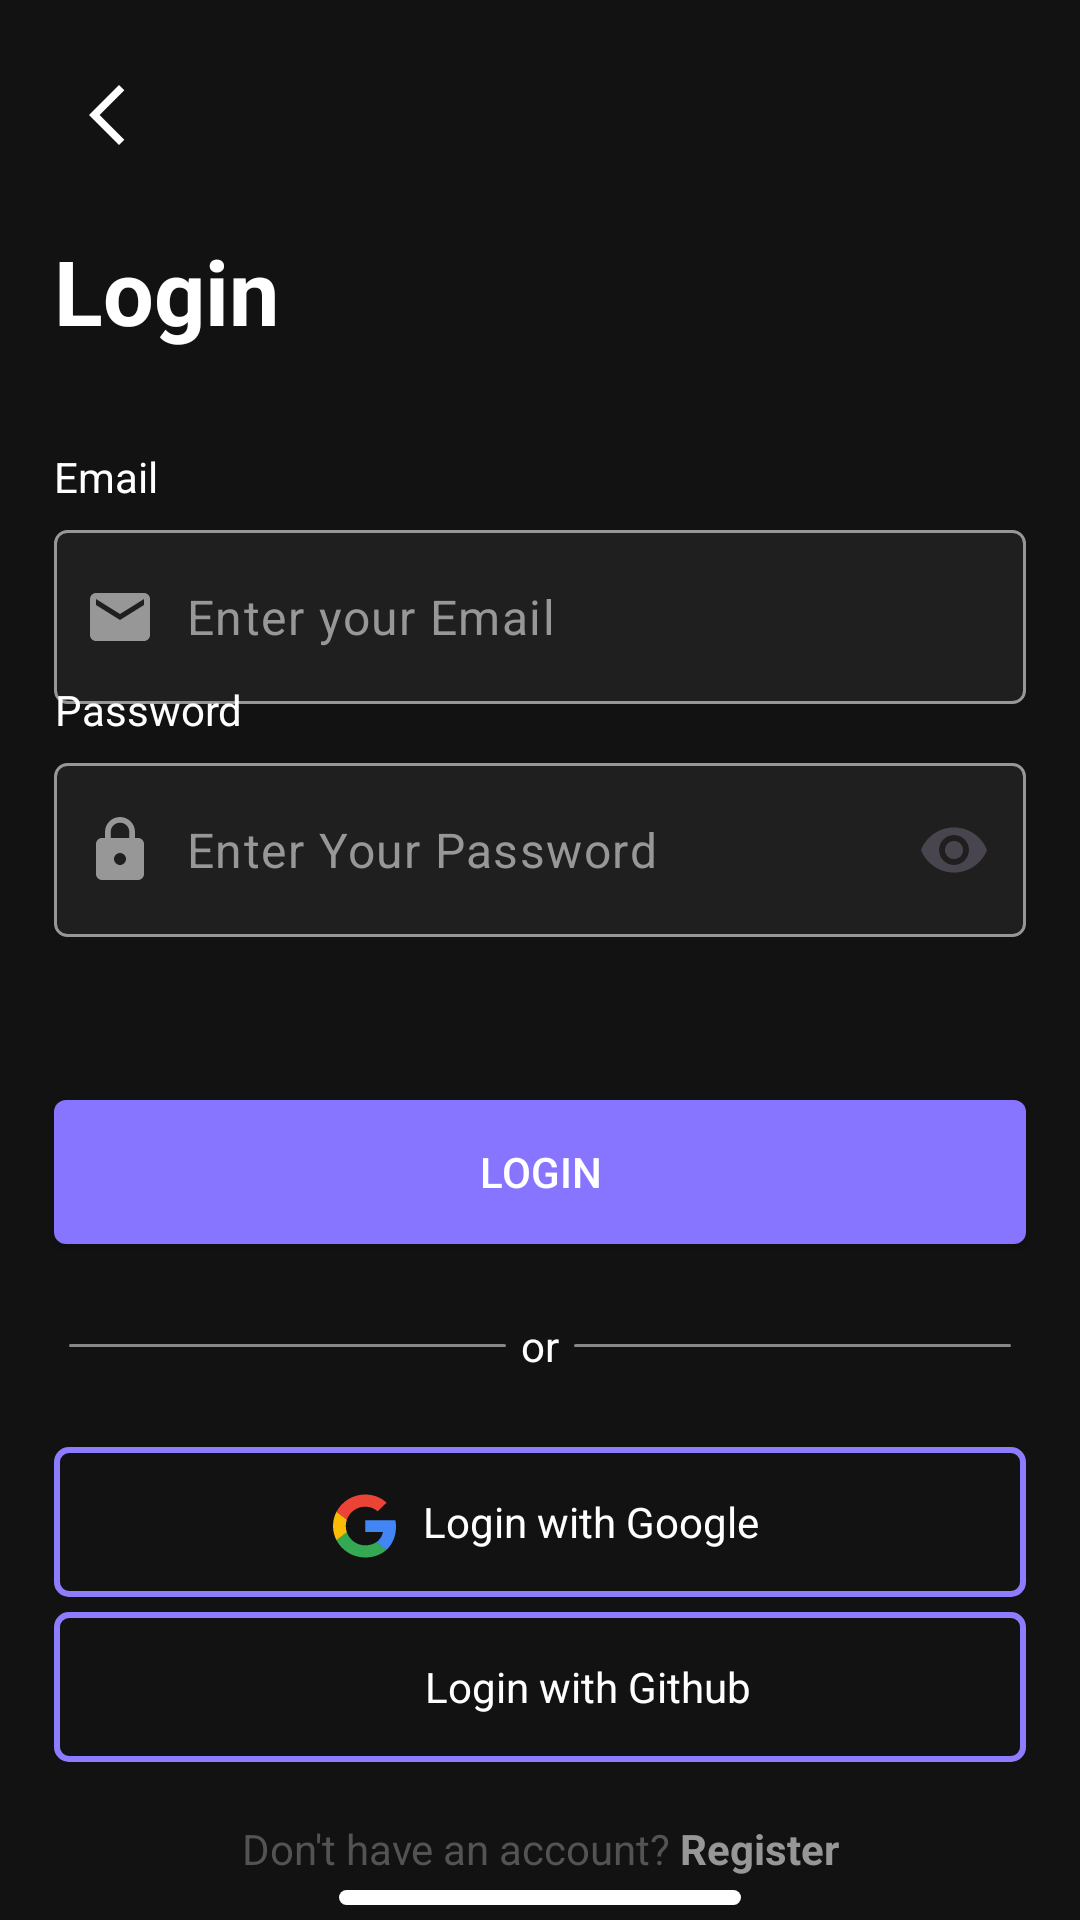

Locate icon controls on the screen. Image size 1080*1920, boxes as Rect(x1, y1, x2, y2).
back arrow: Rect(89, 85, 124, 145)
